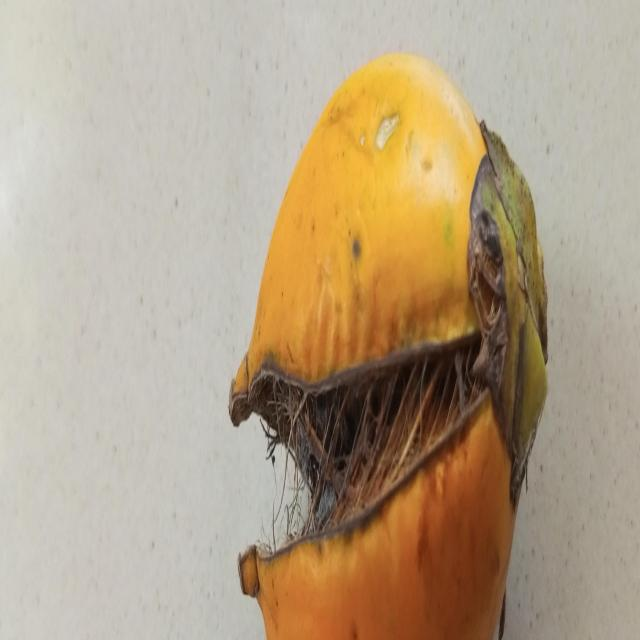damaged: (228, 53, 549, 640)
